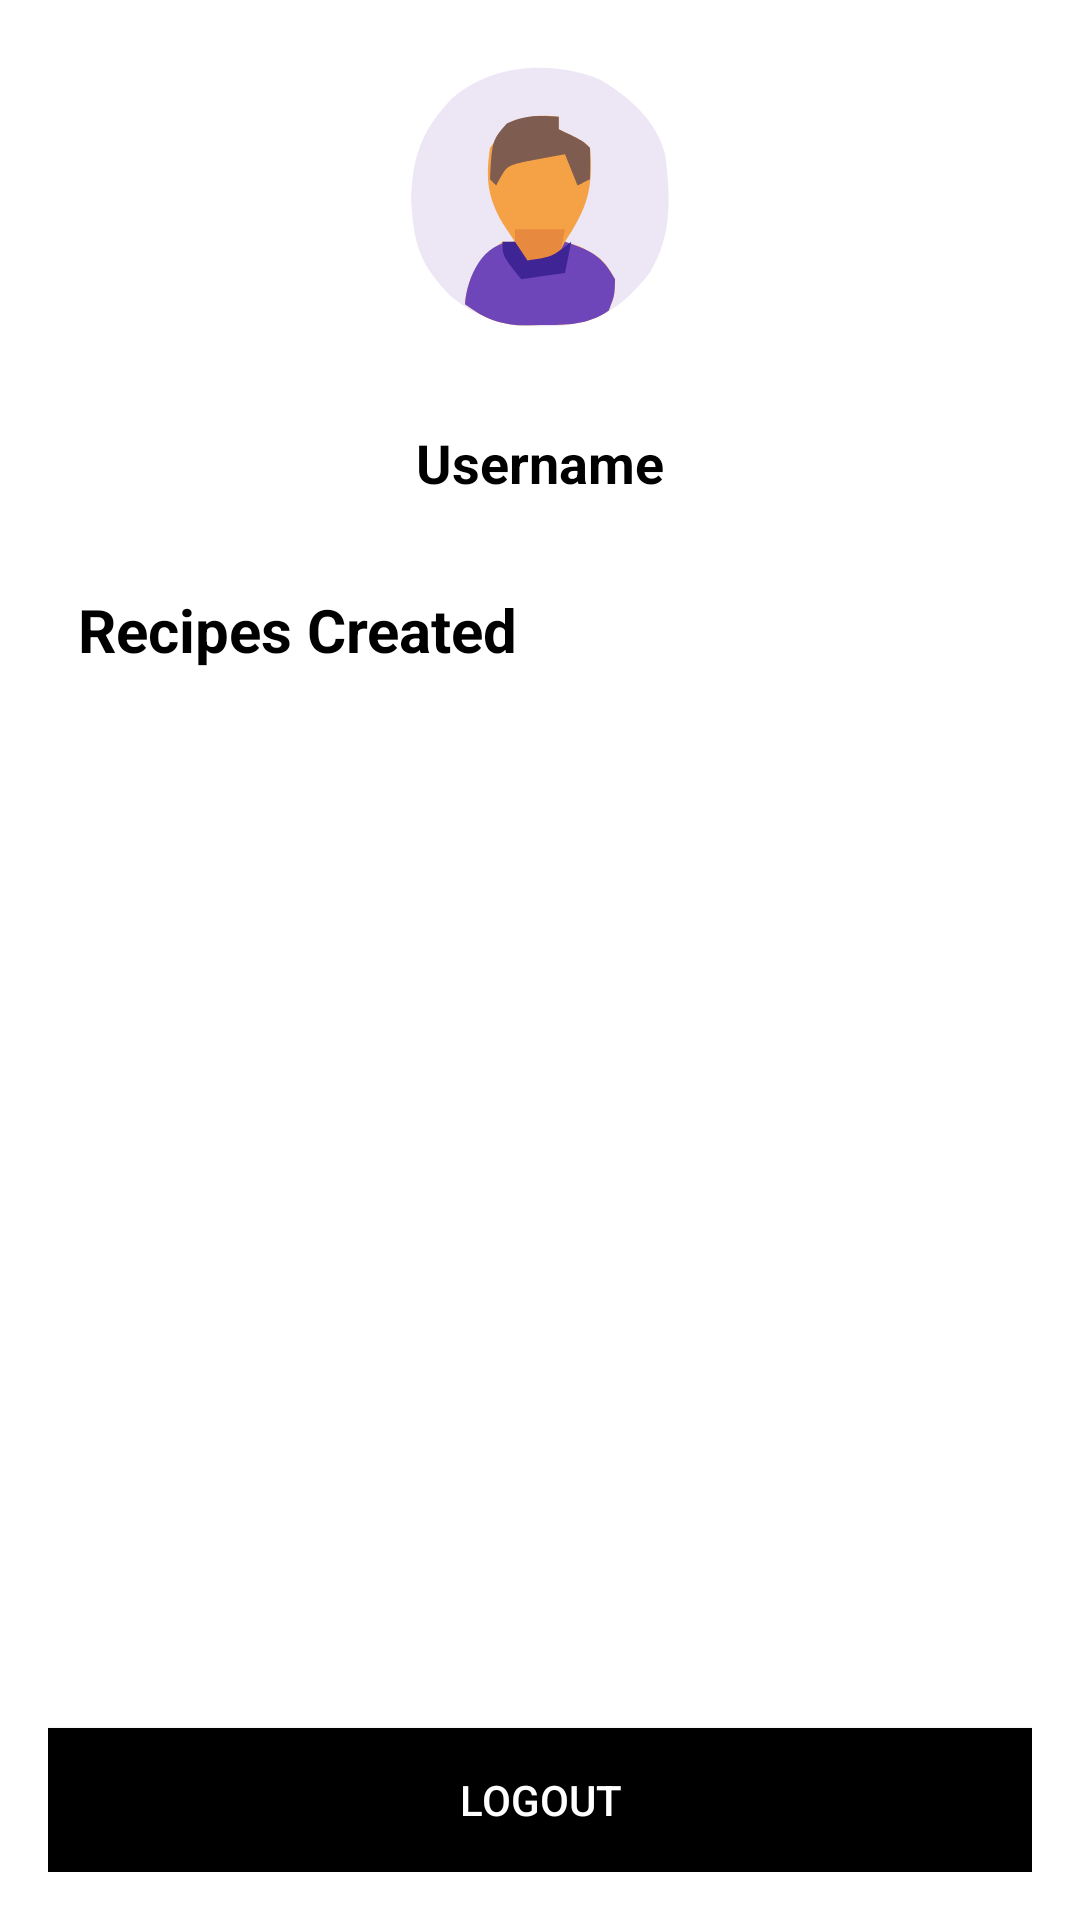

Icon click points for this 1080×1920 phone screenshot, format (x,y):
profile: (540,197)
